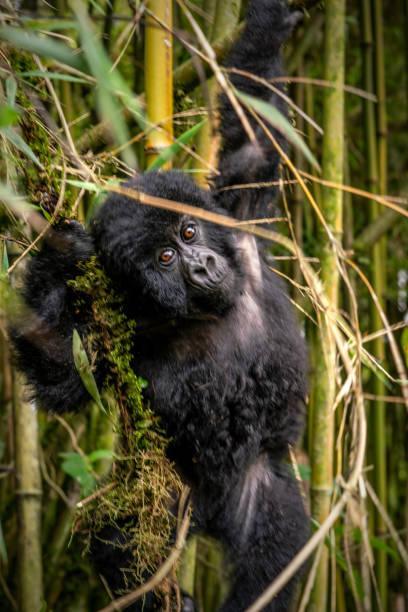goriile_montagne: (0, 140, 392, 612)
